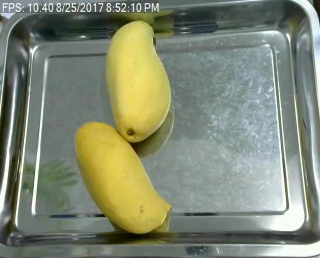Mango: (71, 119, 172, 238), (106, 19, 172, 139)
